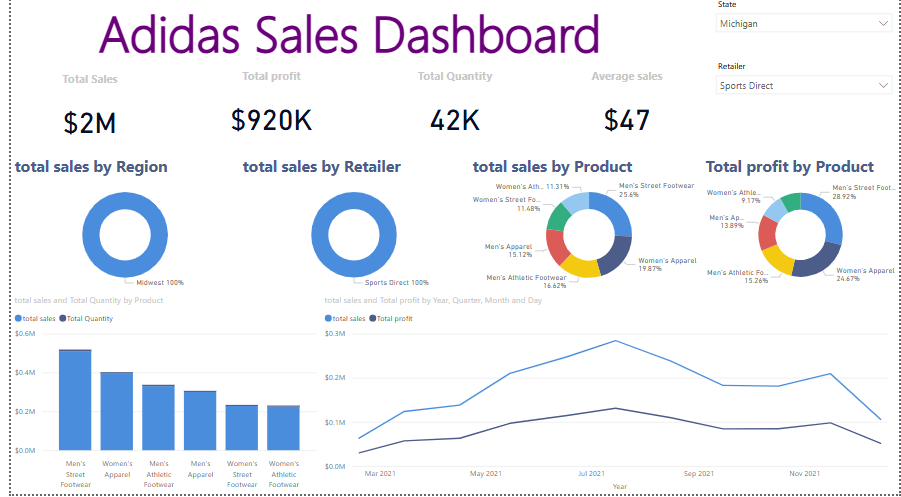

This screenshot's page, from the dashboard's own definition file:
{"tool":"powerbi","page":{"name":"Page 1","canvas":[1280,720],"ordinal":0},"visuals":[{"type":"card","title":"Total Sales","fields":{"Values":["Meaures.total sales"]},"box":[4.3,111.4,218.6,120],"z":0},{"type":"card","title":"Total profit","fields":{"Values":["Meaures.Total profit"]},"box":[264.3,107.1,220,120],"z":1},{"type":"card","title":"Total Quantity","fields":{"Values":["Meaures.Total Quantity"]},"box":[530,107.1,218.6,120],"z":2},{"type":"card","title":"Average sales ","fields":{"Values":["Meaures.Average sales"]},"box":[777.1,107.1,218.6,120],"z":3},{"type":"donutChart","fields":{"Y":["Meaures.total sales"],"Category":["Data Sales Adidas.Region"]},"box":[0,231.4,328.6,200],"z":4},{"type":"donutChart","fields":{"Y":["Meaures.total sales"],"Category":["Data Sales Adidas.Retailer"]},"box":[328.6,231.4,331.4,200],"z":5},{"type":"donutChart","fields":{"Y":["Meaures.total sales"],"Category":["Data Sales Adidas.Product"]},"box":[660,231.4,345.7,200],"z":6},{"type":"donutChart","fields":{"Y":["Meaures.Total profit"],"Category":["Data Sales Adidas.Product"]},"box":[995.7,231.4,284.3,200],"z":7},{"type":"lineStackedColumnComboChart","fields":{"Y":["Meaures.total sales","Meaures.Total Quantity"],"Category":["Data Sales Adidas.Product"]},"box":[0,431.4,445.7,288.6],"z":8},{"type":"lineChart","fields":{"Category":["Dates.Date.Variation.Date Hierarchy.Year","Dates.Date.Variation.Date Hierarchy.Quarter","Dates.Date.Variation.Date Hierarchy.Month","Dates.Date.Variation.Date Hierarchy.Day"],"Y":["Meaures.total sales","Meaures.Total profit"]},"box":[445.7,431.4,834.3,288.6],"z":9},{"type":"slicer","fields":{"Values":["Data Sales Adidas.State"]},"box":[1005.7,0,274.3,78.6],"z":10},{"type":"slicer","fields":{"Values":["Data Sales Adidas.Retailer"]},"box":[1005.7,88.6,274.3,78.6],"z":11},{"type":"textbox","box":[0,0,995.7,107.1],"z":12}]}

Visuals, with their boxes in screenshot pixels (x1, y1, x2, y2), scaled from the page's 1280x720 canvas onto the 901x497 screenshot:
"Total Sales" card: l=3, t=77, r=157, b=160
"Total profit" card: l=186, t=74, r=341, b=157
"Total Quantity" card: l=373, t=74, r=527, b=157
"Average sales " card: l=547, t=74, r=701, b=157
donutChart - Meaures.total sales x Data Sales Adidas.Region: l=0, t=160, r=231, b=298
donutChart - Meaures.total sales x Data Sales Adidas.Retailer: l=231, t=160, r=465, b=298
donutChart - Meaures.total sales x Data Sales Adidas.Product: l=465, t=160, r=708, b=298
donutChart - Meaures.Total profit x Data Sales Adidas.Product: l=701, t=160, r=900, b=298
lineStackedColumnComboChart - Meaures.total sales x Meaures.Total Quantity: l=0, t=298, r=314, b=496
lineChart - Dates.Date.Variation.Date Hierarchy.Year x Dates.Date.Variation.Date Hierarchy.Quarter: l=314, t=298, r=900, b=496
slicer - Data Sales Adidas.State: l=708, t=0, r=900, b=54
slicer - Data Sales Adidas.Retailer: l=708, t=61, r=900, b=115
textbox: l=0, t=0, r=701, b=74
